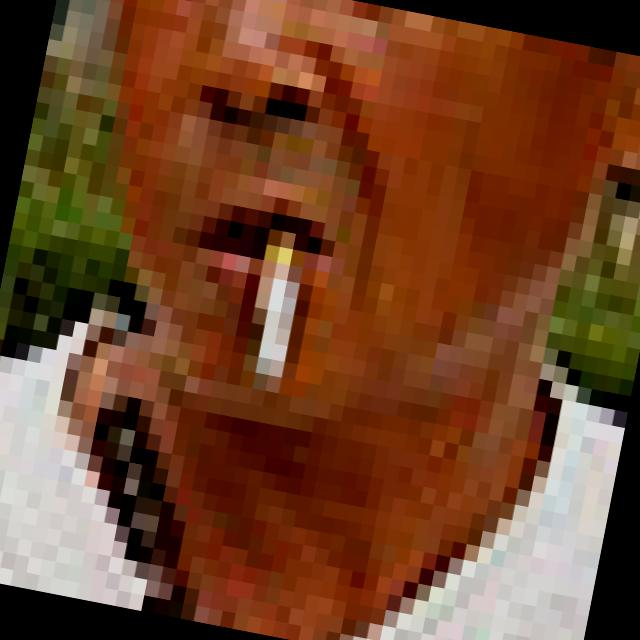smoke: (238, 209, 325, 405)
